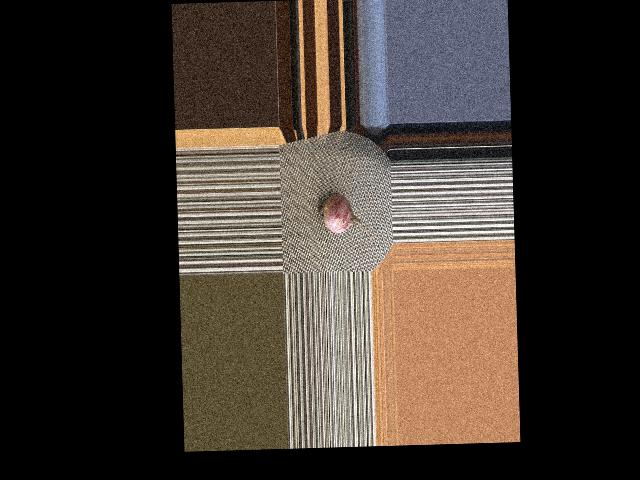beet: (317, 191, 374, 251)
